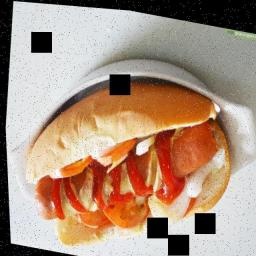hotdog: (13, 55, 241, 256)
